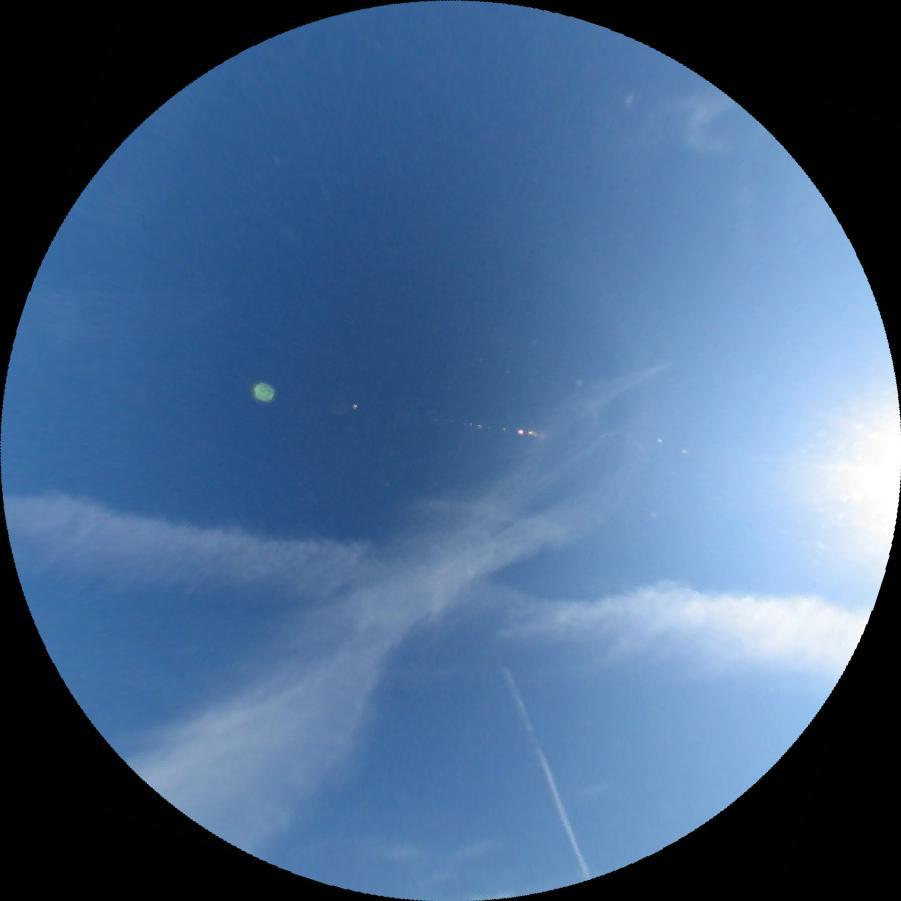contrail old: (499, 664, 593, 880)
contrail veryold: (0, 487, 871, 691)
